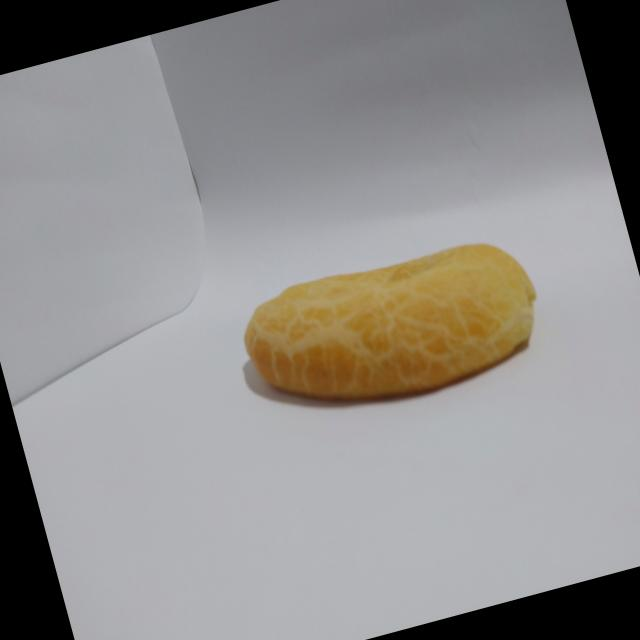Chipa: (220, 205, 562, 446)
